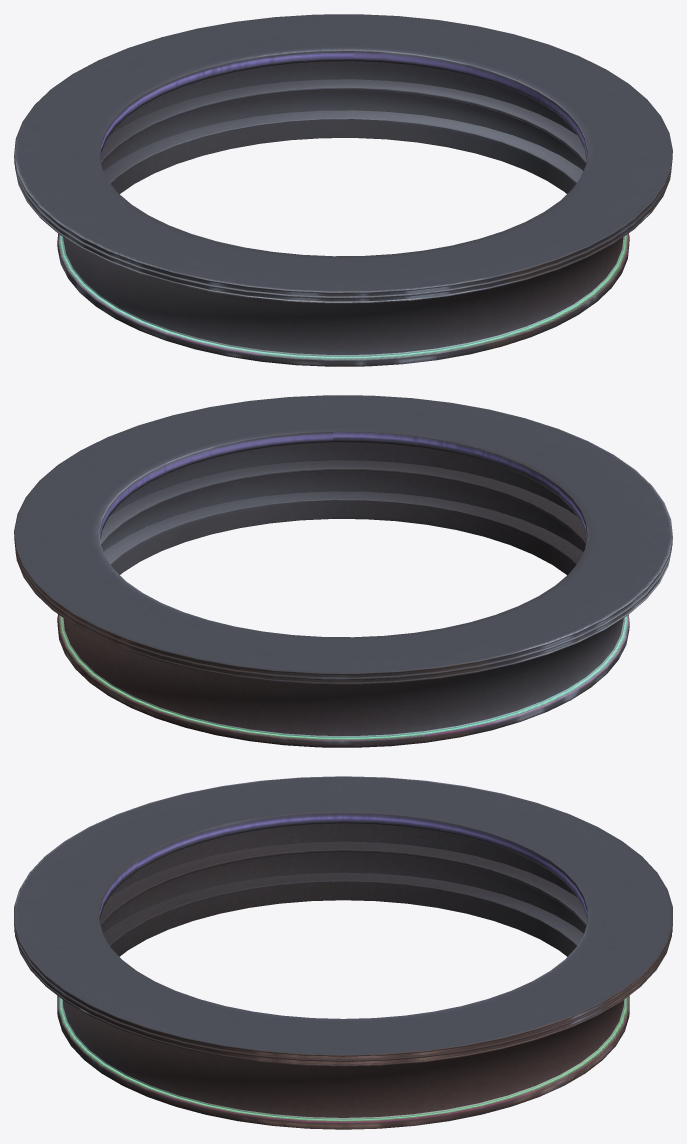
Rendered from bar2.obj.
3 renders of one model, top to bottom at view 1: azimuth 30°, elevation 25°; view 2: azimuth 150°, elevation 25°; view 3: azimuth 270°, elevation 25°, orthographic.
Parts seen in each view (by area): view 1: bar; view 2: bar; view 3: bar.
Boxes of the visible parts, x1,y1,x2,y2 form: bar: (14, 14, 672, 366); bar: (14, 395, 672, 747); bar: (14, 776, 672, 1129).
Size of the model in its own units: 6.46 by 1.01 by 6.44.
1 material, 1 textured.
